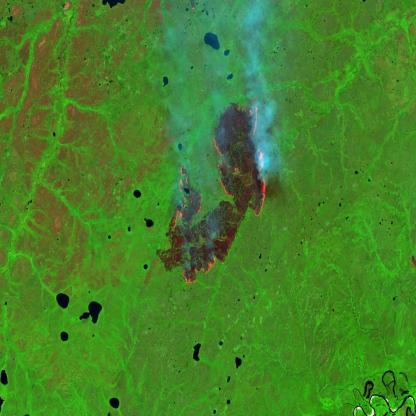fire: (167, 92, 271, 289)
